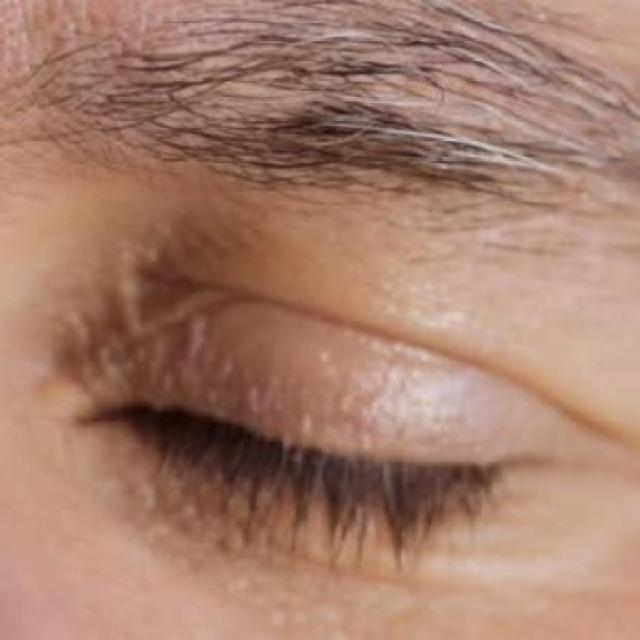drowsy: (89, 305, 552, 606)
